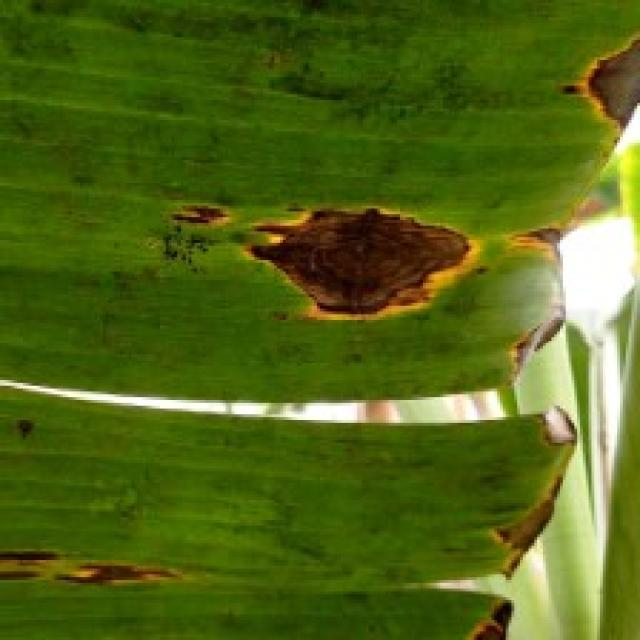Bacterial_spot: (240, 170, 482, 338), (0, 540, 194, 609), (466, 462, 568, 581), (551, 20, 640, 140), (496, 288, 574, 379), (500, 195, 574, 272), (158, 178, 243, 243), (451, 588, 525, 640), (528, 398, 588, 453), (2, 392, 45, 446)
